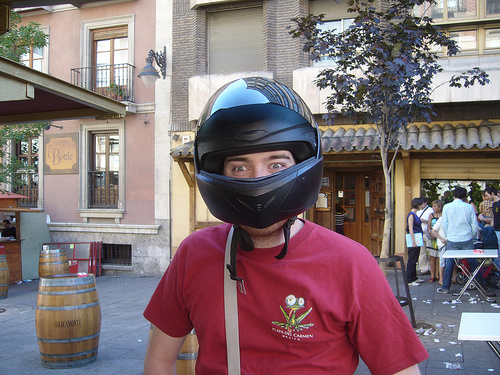helmet: (192, 77, 329, 218)
